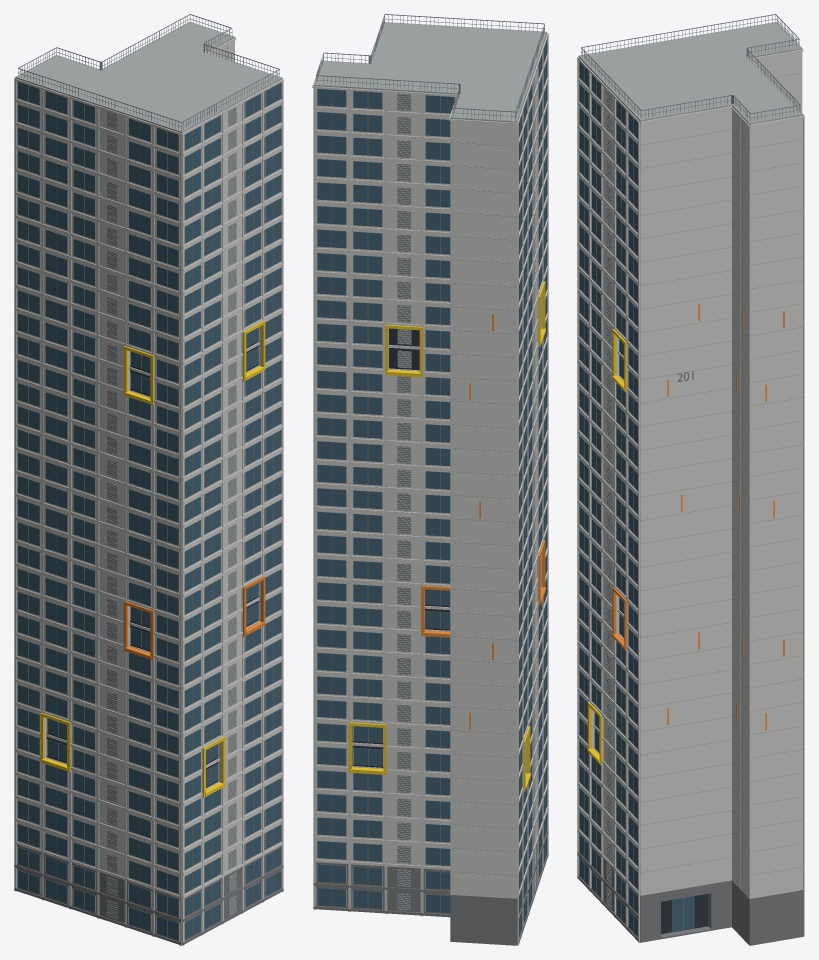
The model's file is bespoke-songpa-helio-city-201.glb.
The picture shows the model from 3 angles, left to right: view 1: azimuth 30°, elevation 25°; view 2: azimuth 150°, elevation 25°; view 3: azimuth 270°, elevation 25°; orthographic projection.
Visible parts, largest first — view 1: Helio201_editable_Helio201_dark_blue_grey_glazing, Helio201_editable_Helio201_white_slab_frames, Helio201_editable_Helio201_grey_service_grille, Helio201_editable_Helio201_low_roof_deck, Helio201_editable_Helio201_blankwall_grey_panels, Helio201_editable_Helio201_dark_grey_twofloor_base, Helio201_editable_Helio201_yellow_projecting_rectangular_fra, Helio201_editable_Helio201_orange_narrow_accent, Helio201_editable_Helio201_deep_shaded_frame_recess; view 2: Helio201_editable_Helio201_white_slab_frames, Helio201_editable_Helio201_dark_blue_grey_glazing, Helio201_editable_Helio201_grey_service_grille, Helio201_editable_Helio201_low_roof_deck, Helio201_editable_Helio201_dark_grey_twofloor_base, Helio201_editable_Helio201_blankwall_grey_panels, Helio201_editable_Helio201_yellow_projecting_rectangular_fra, Helio201_editable_Helio201_deep_shaded_frame_recess, Helio201_editable_Helio201_orange_narrow_accent; view 3: Helio201_editable_Helio201_white_slab_frames, Helio201_editable_Helio201_dark_blue_grey_glazing, Helio201_editable_Helio201_low_roof_deck, Helio201_editable_Helio201_grey_service_grille, Helio201_editable_Helio201_dark_grey_twofloor_base, Helio201_editable_Helio201_blankwall_grey_panels, Helio201_editable_Helio201_yellow_projecting_rectangular_fra, Helio201_editable_Helio201_orange_narrow_accent, Helio201_editable_Helio201_deep_shaded_frame_recess.
Part boxes in pixels (x1,y1,x2,y2): Helio201_editable_Helio201_dark_blue_grey_glazing: (17, 82, 280, 939); Helio201_editable_Helio201_white_slab_frames: (14, 37, 283, 945); Helio201_editable_Helio201_grey_service_grille: (18, 14, 279, 936); Helio201_editable_Helio201_low_roof_deck: (15, 21, 282, 132); Helio201_editable_Helio201_blankwall_grey_panels: (107, 44, 236, 918); Helio201_editable_Helio201_dark_grey_twofloor_base: (14, 845, 283, 945); Helio201_editable_Helio201_yellow_projecting_rectangular_fra: (40, 320, 265, 797); Helio201_editable_Helio201_orange_narrow_accent: (123, 576, 265, 660); Helio201_editable_Helio201_deep_shaded_frame_recess: (46, 341, 258, 787); Helio201_editable_Helio201_white_slab_frames: (312, 23, 548, 945); Helio201_editable_Helio201_dark_blue_grey_glazing: (317, 39, 547, 936); Helio201_editable_Helio201_grey_service_grille: (316, 14, 545, 933); Helio201_editable_Helio201_low_roof_deck: (313, 22, 546, 122); Helio201_editable_Helio201_dark_grey_twofloor_base: (313, 830, 548, 945); Helio201_editable_Helio201_blankwall_grey_panels: (397, 72, 536, 909); Helio201_editable_Helio201_yellow_projecting_rectangular_fra: (348, 281, 545, 791); Helio201_editable_Helio201_deep_shaded_frame_recess: (352, 328, 450, 767); Helio201_editable_Helio201_orange_narrow_accent: (421, 314, 545, 729); Helio201_editable_Helio201_white_slab_frames: (577, 24, 804, 942); Helio201_editable_Helio201_dark_blue_grey_glazing: (579, 61, 694, 935); Helio201_editable_Helio201_low_roof_deck: (578, 22, 803, 124); Helio201_editable_Helio201_grey_service_grille: (581, 14, 802, 931); Helio201_editable_Helio201_dark_grey_twofloor_base: (577, 833, 803, 945); Helio201_editable_Helio201_blankwall_grey_panels: (606, 59, 790, 907); Helio201_editable_Helio201_yellow_projecting_rectangular_fra: (587, 329, 628, 765); Helio201_editable_Helio201_orange_narrow_accent: (612, 304, 784, 730); Helio201_editable_Helio201_deep_shaded_frame_recess: (594, 350, 708, 934).
Bounding box in the file's own units: 26.25 × 99 × 24.56.
